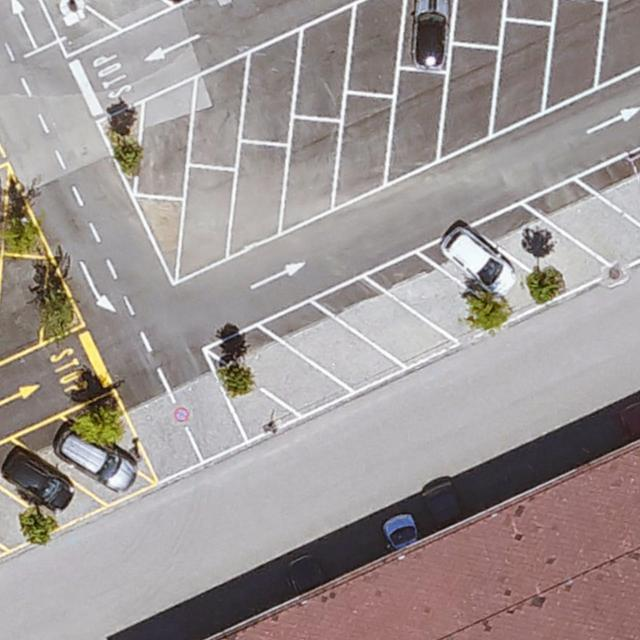tree: (76, 404, 123, 446), (1, 191, 31, 255), (467, 296, 507, 334), (37, 296, 71, 340), (19, 506, 56, 544), (526, 270, 566, 302), (115, 143, 141, 178), (225, 367, 252, 395)
